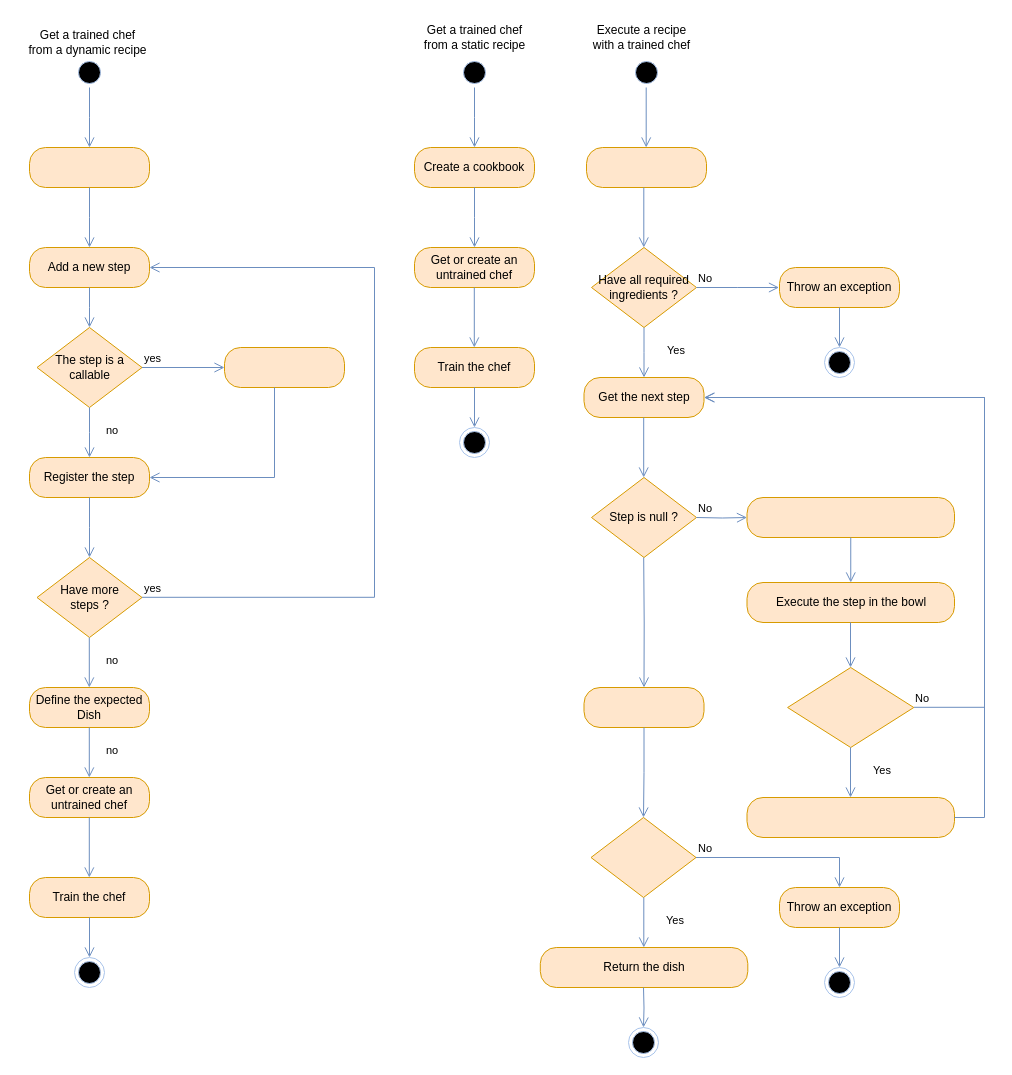
The diagram is 1012 pixels wide and 1075 high, and some of its shapes have lost their labels. Here are the shapes that lost their labels. From the top down, the centre of each, then its label:
point 89,167: Create a new Recipe
point 646,167: Initialize the workplan
point 284,367: Convert to a standard Bowl
point 850,517: Put ingredients from the workplan, from the callable arguments into the bowl
point 643,707: Get the final dish, to compare it
point 850,707: Step set a jump to another step ?
point 850,817: Move the cursor
point 643,857: Dish is valid ?
